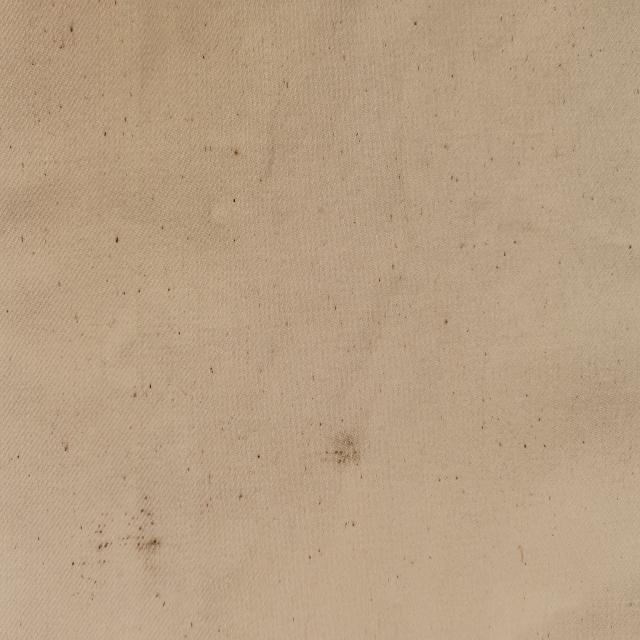taaaches: (126, 478, 165, 562), (327, 415, 369, 472), (94, 518, 111, 562)
